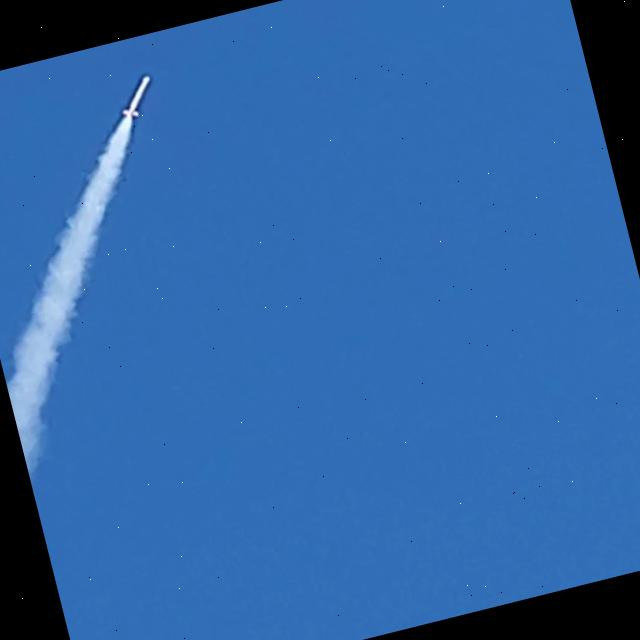rocket: (117, 73, 151, 126)
